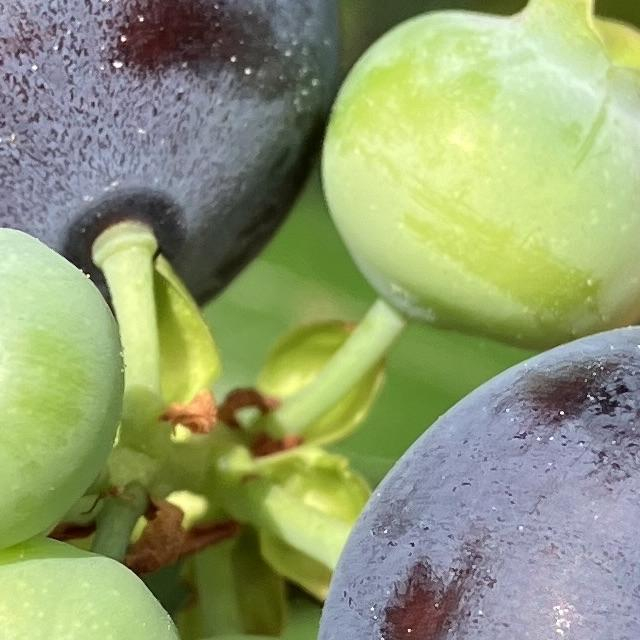Blueberries: (309, 318, 640, 640), (0, 0, 339, 305), (0, 175, 129, 555)
